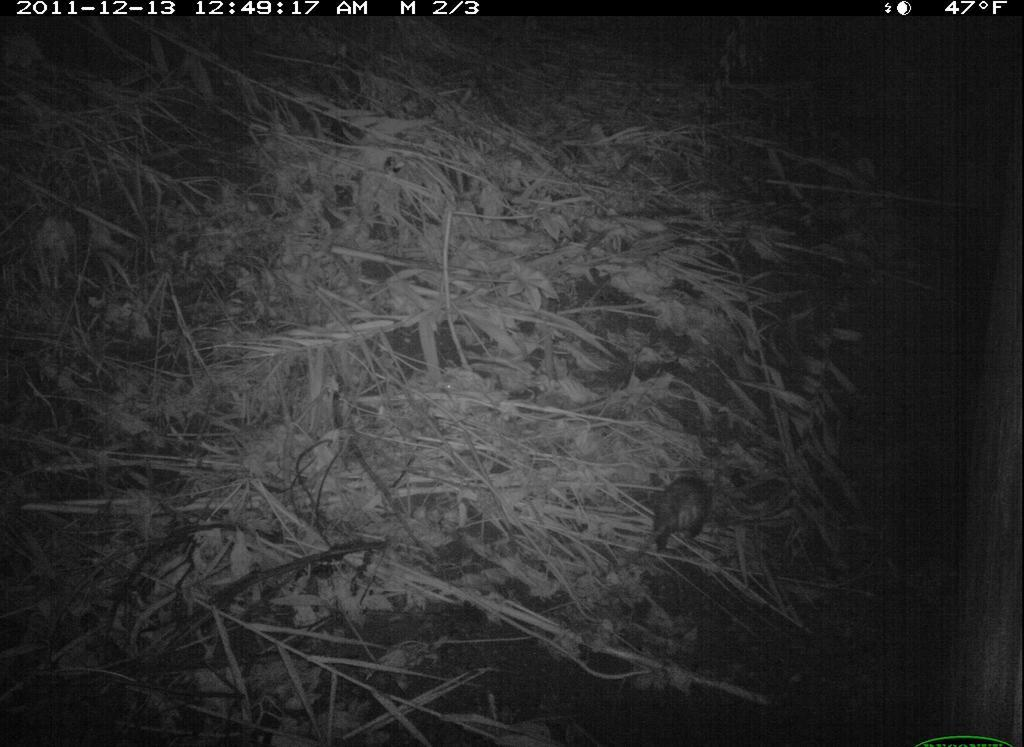opossum: (618, 473, 717, 570)
